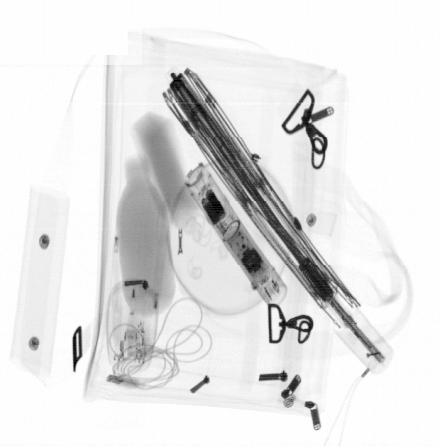Baton: (181, 160, 289, 311)
